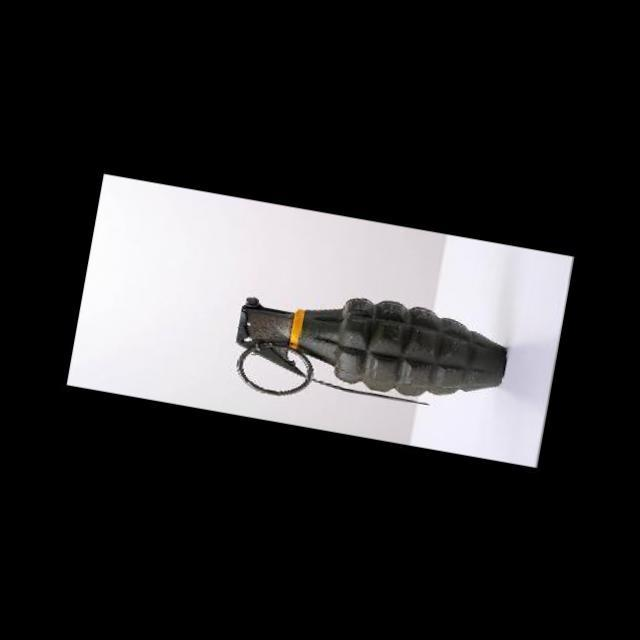grenade: (208, 257, 548, 444)
